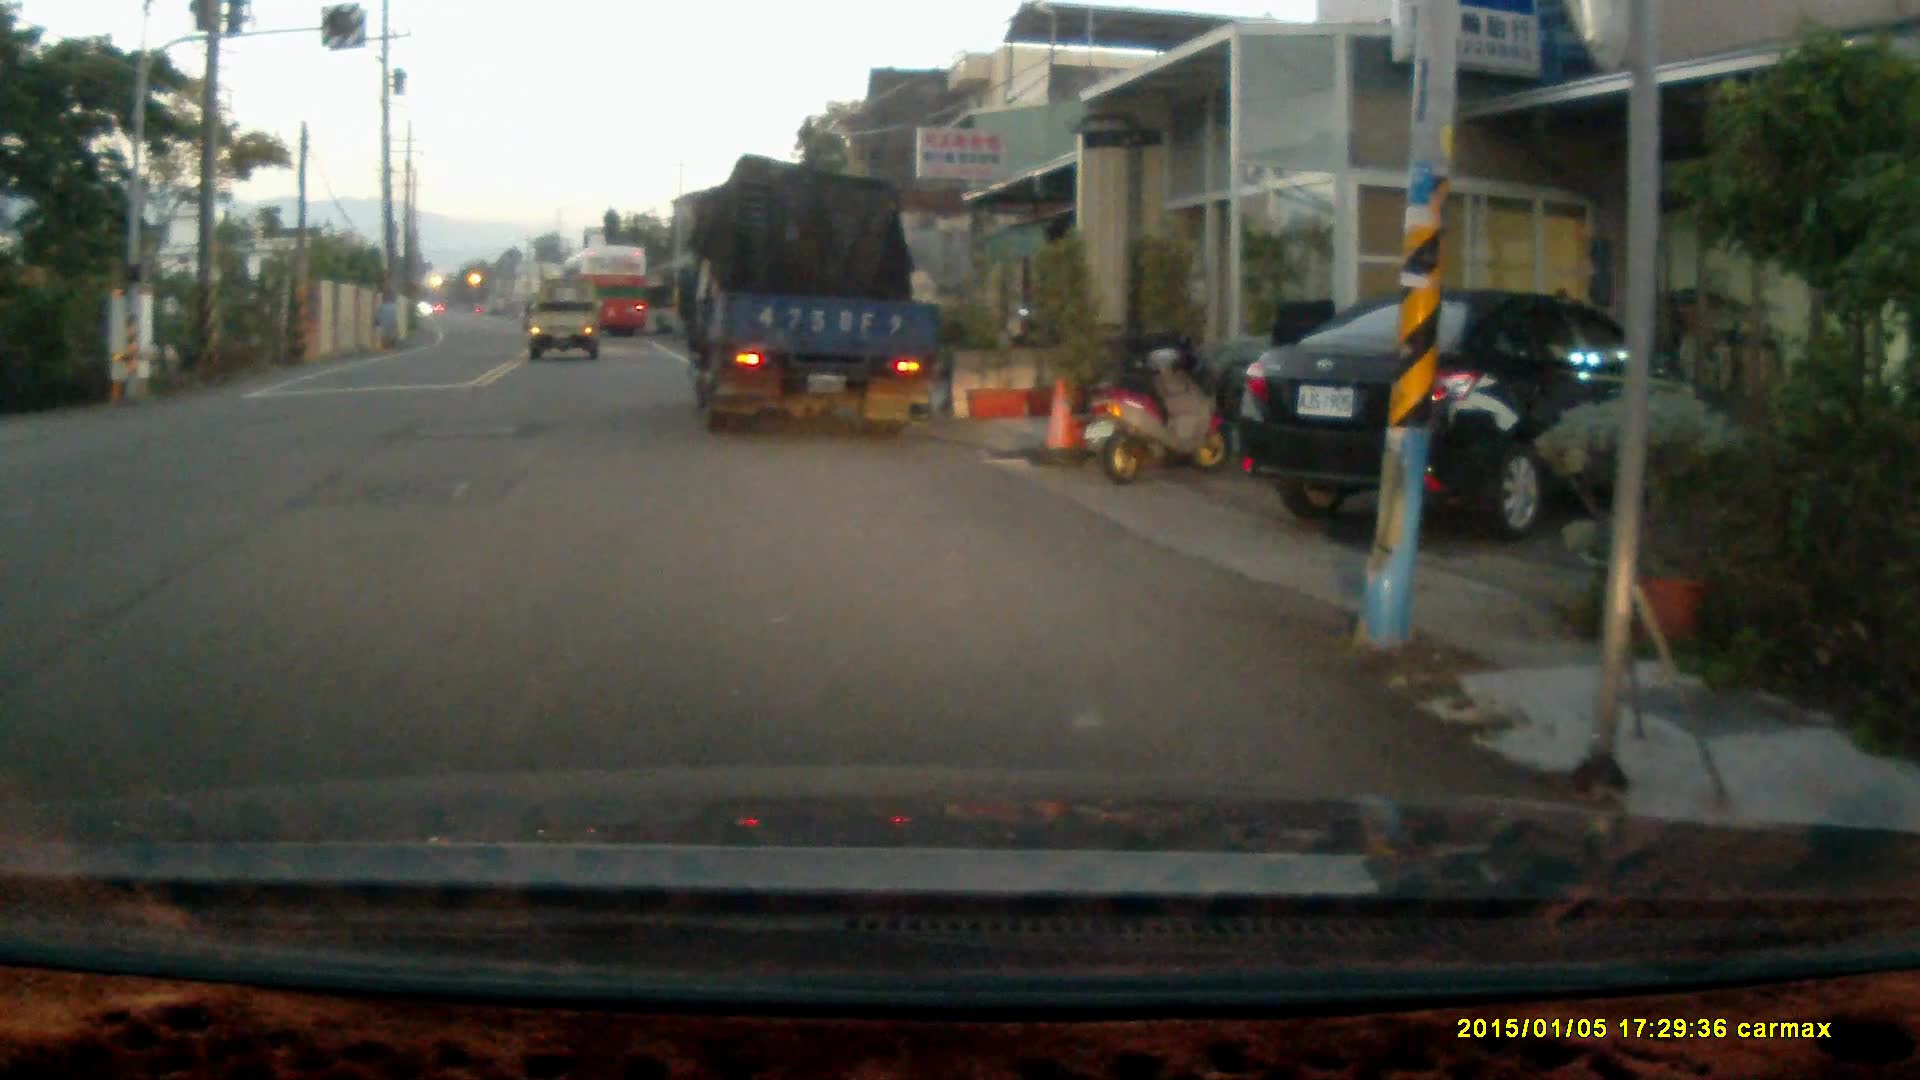vehicle: (1236, 284, 1710, 535), (676, 164, 949, 431), (556, 243, 655, 340), (529, 290, 603, 367)
